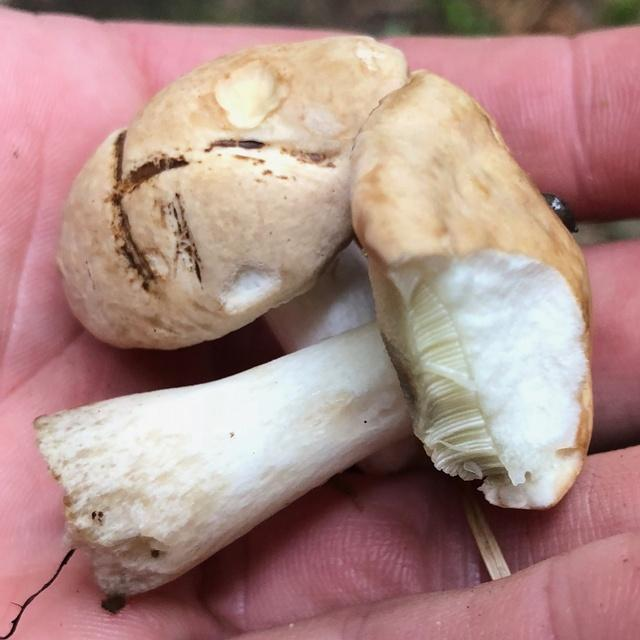edible_mushroom: (32, 74, 595, 600), (54, 33, 409, 351)
